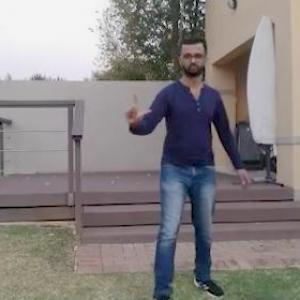land_hand: (124, 91, 159, 134)
